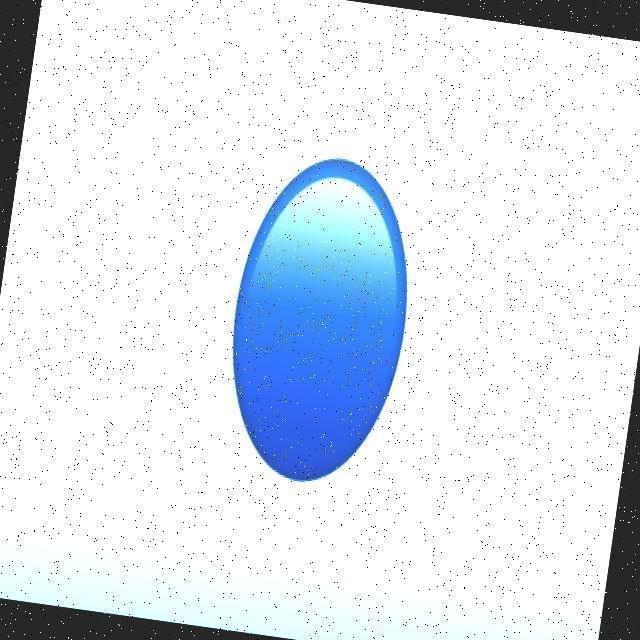Circle: (228, 155, 410, 490)
